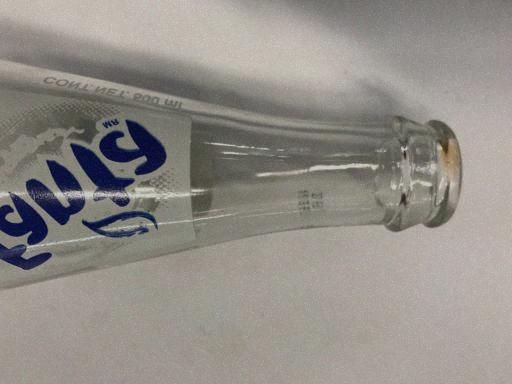paper: (0, 47, 466, 294)
